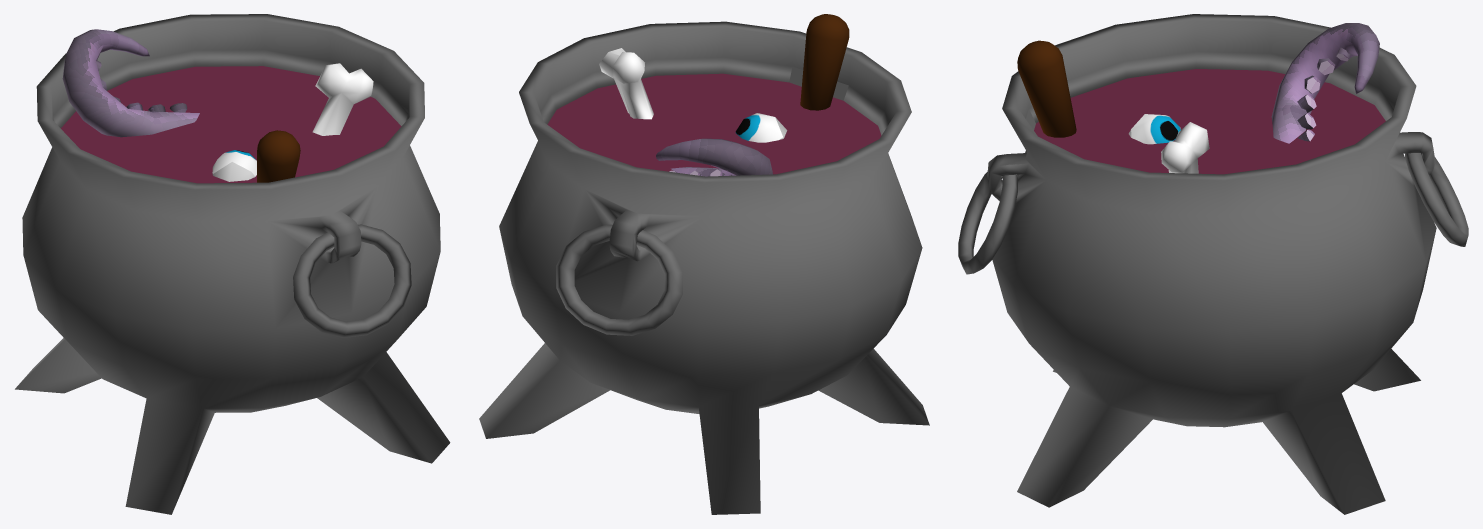
File: Cauldron.glb
The picture shows the model from 3 angles, left to right: view 1: azimuth 30°, elevation 25°; view 2: azimuth 150°, elevation 25°; view 3: azimuth 270°, elevation 25°; orthographic projection. The views are drawn at different scales.
Parts seen in each view (by area): view 1: Cauldron; view 2: Cauldron; view 3: Cauldron.
Boxes of the visible parts, x1,y1,x2,y2 form: Cauldron: (15,14,450,514); Cauldron: (479,14,929,514); Cauldron: (958,14,1468,514).
Size of the model in its own units: 45.62 by 42.89 by 52.15.
4 materials, 2 textured.
